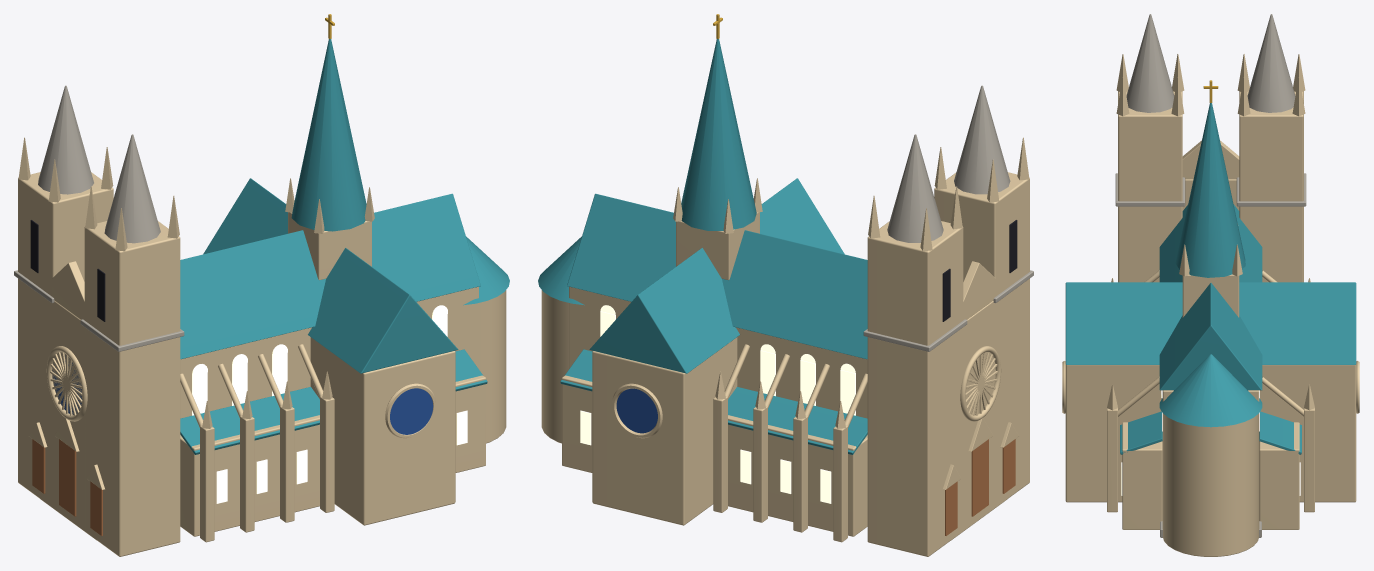
The model's file is cathedral.glb.
The picture shows the model from 3 angles, left to right: view 1: azimuth 30°, elevation 25°; view 2: azimuth 150°, elevation 25°; view 3: azimuth 270°, elevation 25°; orthographic projection. The views are drawn at different scales.
Parts seen in each view (by area): view 1: cathedral; view 2: cathedral; view 3: cathedral.
Part boxes in pixels (box(x1,y1,x2,y2)): cathedral: box(14, 14, 509, 556); cathedral: box(538, 14, 1033, 556); cathedral: box(1062, 14, 1359, 556).
Bounding box in the file's own units: 40.93 × 39.53 × 26.51.
1 material, 1 textured.
